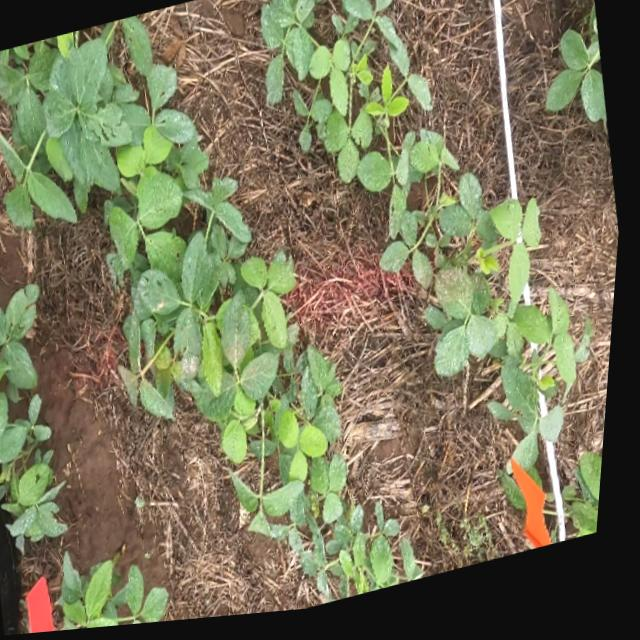soy_plant: (0, 18, 429, 609), (0, 285, 76, 549), (71, 564, 178, 632)
